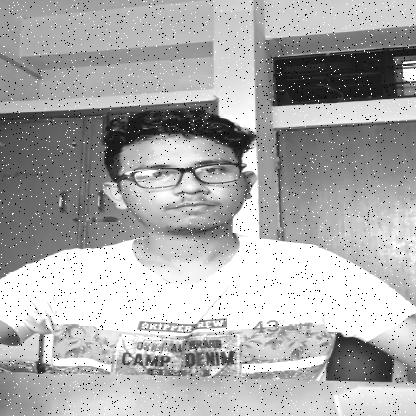Normal: (116, 126, 259, 238)
